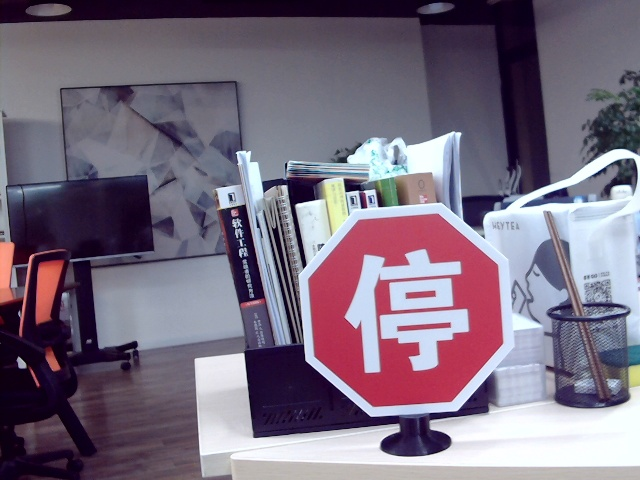stop: (343, 250, 471, 375)
